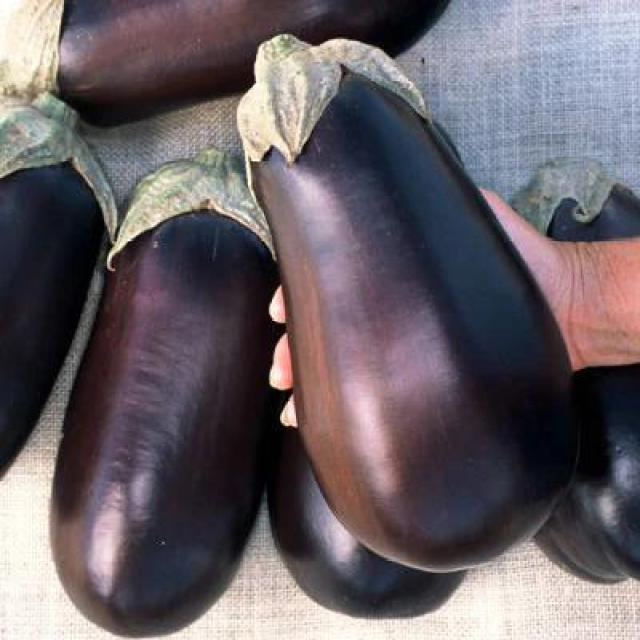eggplant: (235, 33, 575, 573), (46, 145, 287, 637)
